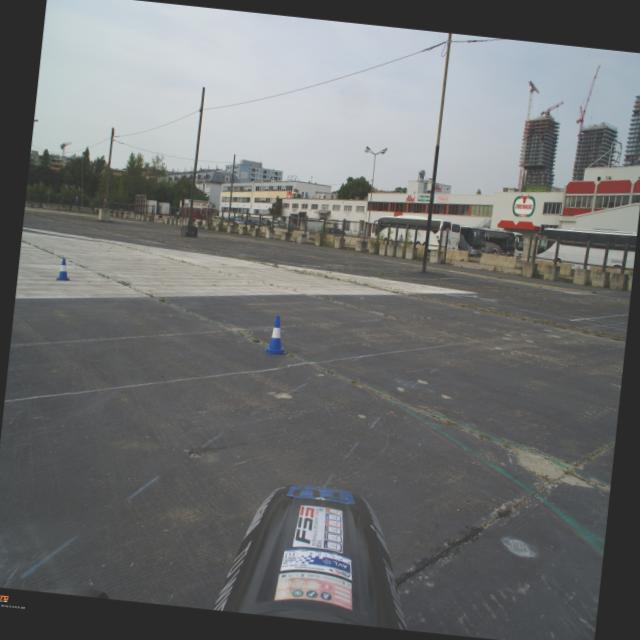blue_cone: (263, 314, 289, 356), (55, 257, 71, 281)
